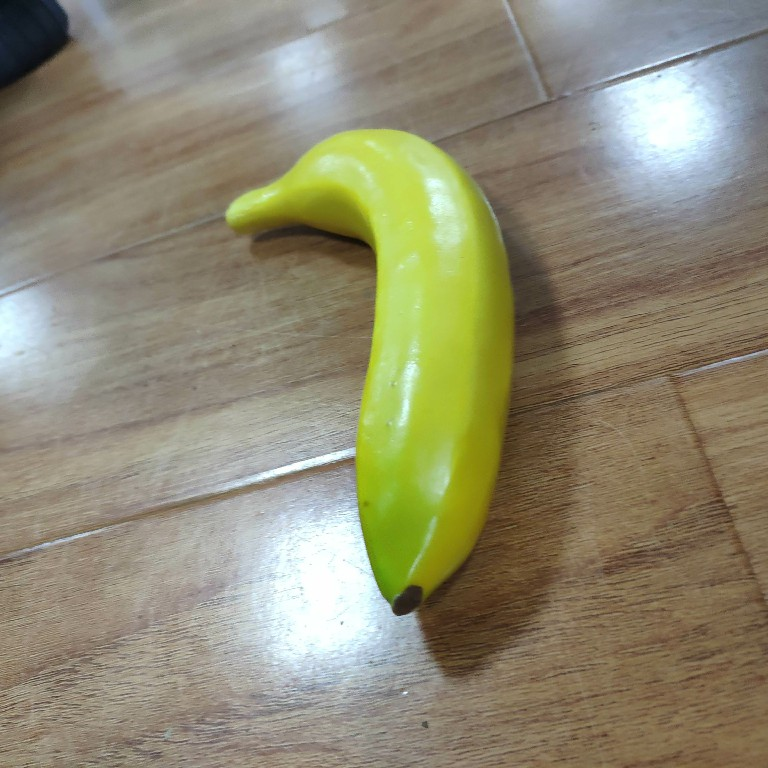fruit_banana: (218, 123, 517, 624)
